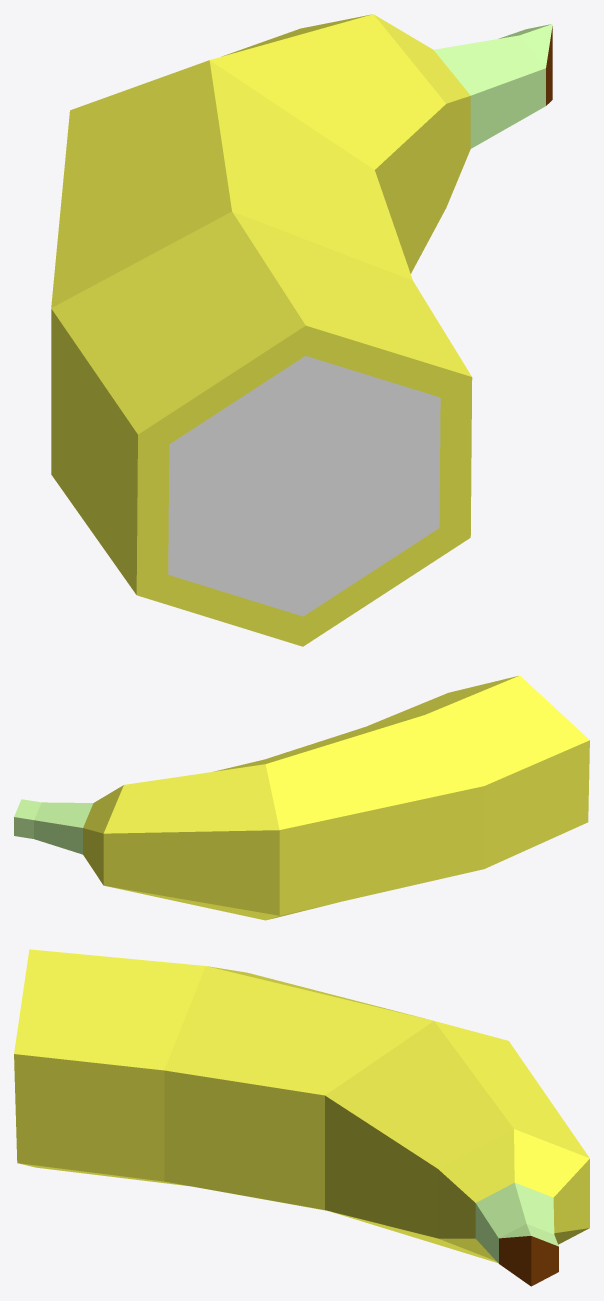
File: banana02.obj
3 views of the same model, one above another, from view 1: azimuth 30°, elevation 25°; view 2: azimuth 150°, elevation 25°; view 3: azimuth 270°, elevation 25° (orthographic). The views are drawn at different scales.
Visible parts, largest first — view 1: Cylinder; view 2: Cylinder; view 3: Cylinder.
Boxes of the visible parts, box(x1,y1,x2,y2) form: Cylinder: box(51, 14, 552, 646); Cylinder: box(14, 675, 589, 920); Cylinder: box(14, 949, 589, 1286).
Bounding box in the file's own units: 0.1103 × 0.0451 × 0.106.
1 material, 1 textured.
